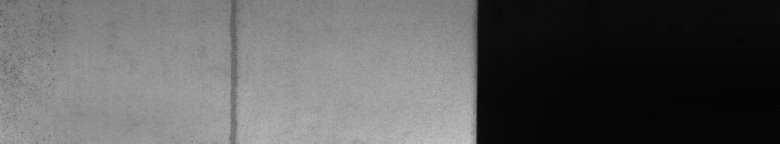hd: (220, 4, 244, 136)
